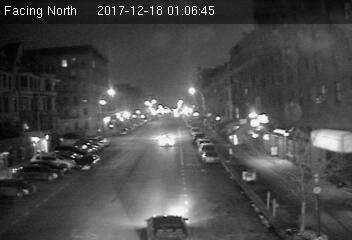car: (74, 154, 99, 169), (156, 134, 178, 151), (199, 151, 221, 164)
